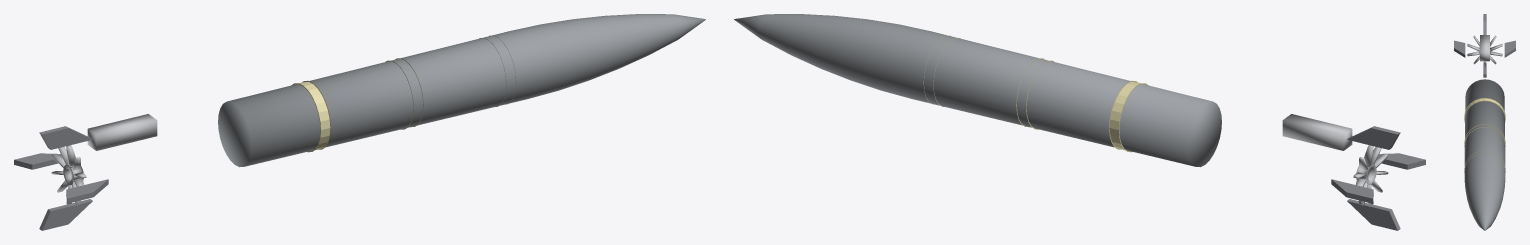
File: US_TORP_Mk48_ADCAP_LOD1.fbx
3 renders of one model, left to right at view 1: azimuth 30°, elevation 25°; view 2: azimuth 150°, elevation 25°; view 3: azimuth 270°, elevation 25°, orthographic. The views are drawn at different scales.
Parts seen in each view (by area): view 1: WPN_US_TORP_Mk48_ADCAP_LOD1_Body, WPN_US_TORP_Mk48_ADCAP_LOD1_Fins, WPN_US_TORP_Mk48_ADCAP_LOD1_Detail, WPN_US_TORP_Mk48_ADCAP_LOD1_Marking, WPN_US_TORP_Mk48_ADCAP_LOD1_Propulsor; view 2: WPN_US_TORP_Mk48_ADCAP_LOD1_Body, WPN_US_TORP_Mk48_ADCAP_LOD1_Fins, WPN_US_TORP_Mk48_ADCAP_LOD1_Detail, WPN_US_TORP_Mk48_ADCAP_LOD1_Marking, WPN_US_TORP_Mk48_ADCAP_LOD1_Propulsor; view 3: WPN_US_TORP_Mk48_ADCAP_LOD1_Body, WPN_US_TORP_Mk48_ADCAP_LOD1_Fins, WPN_US_TORP_Mk48_ADCAP_LOD1_Marking, WPN_US_TORP_Mk48_ADCAP_LOD1_Propulsor, WPN_US_TORP_Mk48_ADCAP_LOD1_Detail.
Boxes of the visible parts, left/top/right/bottom form: WPN_US_TORP_Mk48_ADCAP_LOD1_Body: left=218, top=14, right=705, bottom=167; WPN_US_TORP_Mk48_ADCAP_LOD1_Fins: left=14, top=126, right=108, bottom=230; WPN_US_TORP_Mk48_ADCAP_LOD1_Detail: left=87, top=114, right=157, bottom=150; WPN_US_TORP_Mk48_ADCAP_LOD1_Marking: left=291, top=35, right=516, bottom=152; WPN_US_TORP_Mk48_ADCAP_LOD1_Propulsor: left=51, top=145, right=86, bottom=205; WPN_US_TORP_Mk48_ADCAP_LOD1_Body: left=734, top=14, right=1221, bottom=167; WPN_US_TORP_Mk48_ADCAP_LOD1_Fins: left=1331, top=126, right=1425, bottom=230; WPN_US_TORP_Mk48_ADCAP_LOD1_Detail: left=1282, top=114, right=1352, bottom=150; WPN_US_TORP_Mk48_ADCAP_LOD1_Marking: left=923, top=35, right=1148, bottom=152; WPN_US_TORP_Mk48_ADCAP_LOD1_Propulsor: left=1353, top=145, right=1388, bottom=205; WPN_US_TORP_Mk48_ADCAP_LOD1_Body: left=1464, top=79, right=1505, bottom=230; WPN_US_TORP_Mk48_ADCAP_LOD1_Fins: left=1454, top=14, right=1515, bottom=77; WPN_US_TORP_Mk48_ADCAP_LOD1_Marking: left=1464, top=98, right=1505, bottom=172; WPN_US_TORP_Mk48_ADCAP_LOD1_Propulsor: left=1467, top=35, right=1502, bottom=67; WPN_US_TORP_Mk48_ADCAP_LOD1_Detail: left=1480, top=35, right=1489, bottom=61.
Size of the model in its own units: 5.81 by 0.8049 by 0.8049.
